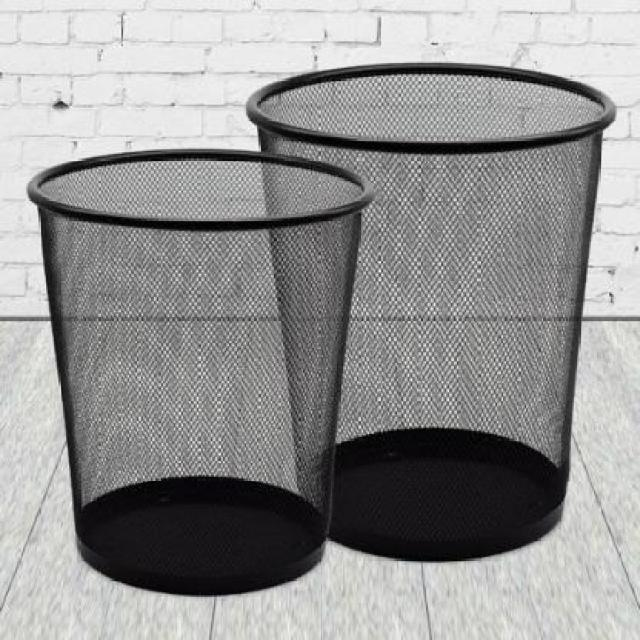dustbin: (240, 58, 619, 570), (23, 145, 378, 603)
